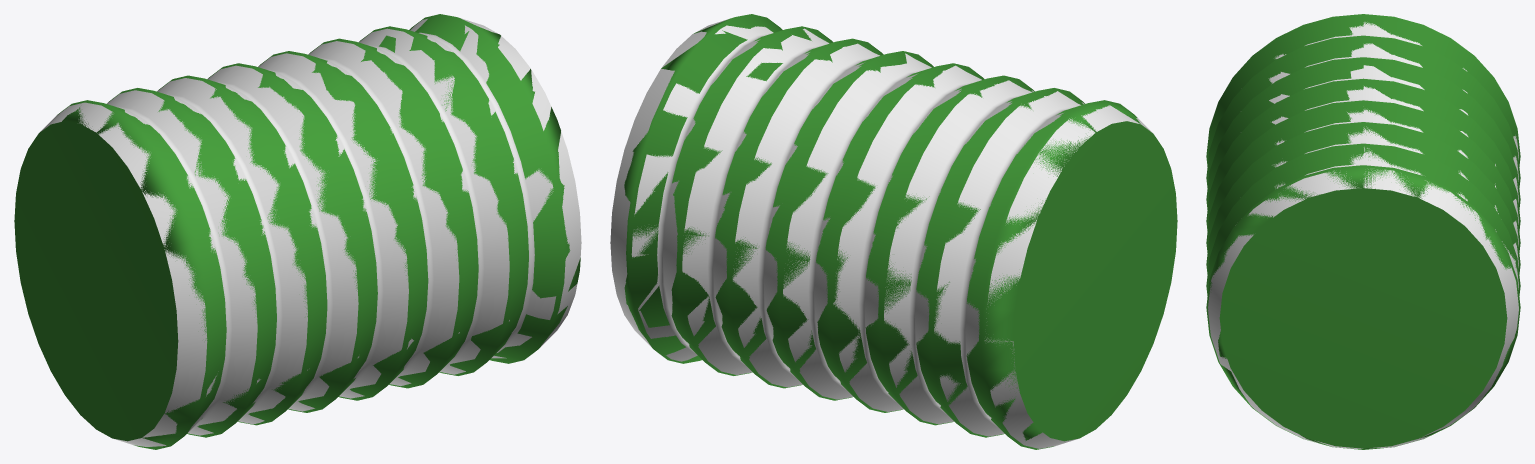
The model's file is DuctPipe_01_Mesh.fbx.
3 renders of one model, left to right at view 1: azimuth 30°, elevation 25°; view 2: azimuth 150°, elevation 25°; view 3: azimuth 270°, elevation 25°, orthographic. The views are drawn at different scales.
Parts seen in each view (by area): view 1: Duct_Pipe_01_Col, Duct_Pipe_01_LOD0; view 2: Duct_Pipe_01_Col, Duct_Pipe_01_LOD0; view 3: Duct_Pipe_01_Col, Duct_Pipe_01_LOD0.
Part boxes in pixels (left/top/right/bottom): Duct_Pipe_01_Col: left=14, top=14, right=580, bottom=449; Duct_Pipe_01_LOD0: left=41, top=18, right=581, bottom=446; Duct_Pipe_01_Col: left=624, top=14, right=1177, bottom=449; Duct_Pipe_01_LOD0: left=610, top=19, right=1152, bottom=448; Duct_Pipe_01_Col: left=1206, top=14, right=1520, bottom=449; Duct_Pipe_01_LOD0: left=1208, top=22, right=1518, bottom=448.
Size of what is drawn, in the model's own units: 100 by 76.87 by 76.87.
